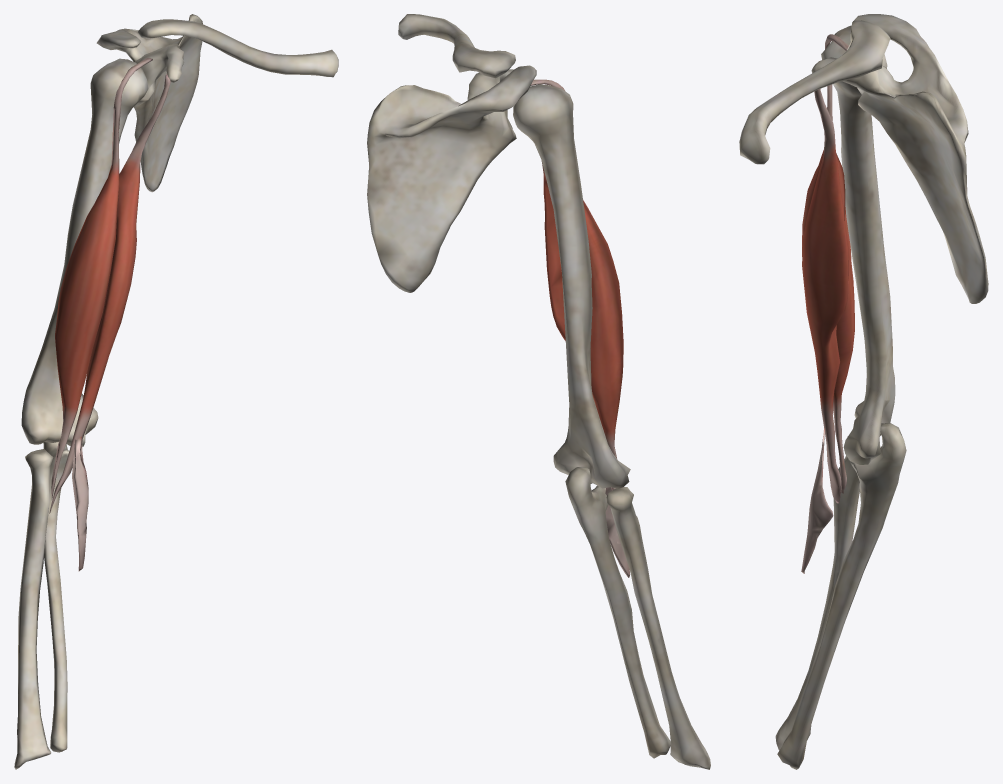
File: biceps.glb
3 renders of one model, left to right at view 1: azimuth 30°, elevation 25°; view 2: azimuth 150°, elevation 25°; view 3: azimuth 270°, elevation 25°, orthographic. The views are drawn at different scales.
Parts seen in each view (by area): view 1: Long_head_of_right_biceps_brachii, Right_humerus, Right_scapula, Right_radius, Short_head_of_right_biceps_brachii, Right_ulna, Right_clavicle, Right_bicipital_aponeurosis; view 2: Right_scapula, Right_humerus, Right_ulna, Long_head_of_right_biceps_brachii, Right_radius, Right_clavicle, Short_head_of_right_biceps_brachii, Right_bicipital_aponeurosis; view 3: Right_scapula, Right_humerus, Short_head_of_right_biceps_brachii, Right_ulna, Right_clavicle, Long_head_of_right_biceps_brachii, Right_radius, Right_bicipital_aponeurosis.
Part boxes in pixels (x1,y1,x2,y2): Long_head_of_right_biceps_brachii: (51,58,152,500); Right_humerus: (21,58,148,446); Right_scapula: (96,14,202,192); Right_radius: (14,449,53,769); Short_head_of_right_biceps_brachii: (49,73,170,513); Right_ulna: (43,442,69,752); Right_clavicle: (138,19,338,77); Right_bicipital_aponeurosis: (72,436,88,571); Right_scapula: (367,65,536,292); Right_humerus: (513,84,630,488); Right_ulna: (565,467,670,758); Long_head_of_right_biceps_brachii: (530,79,623,457); Right_radius: (606,487,710,769); Right_clavicle: (398,14,515,78); Short_head_of_right_biceps_brachii: (541,160,616,490); Right_bicipital_aponeurosis: (605,487,630,577); Right_scapula: (811,14,988,303); Right_humerus: (821,25,895,464); Short_head_of_right_biceps_brachii: (802,63,848,503); Right_ulna: (777,423,906,769); Right_clavicle: (739,20,890,164); Long_head_of_right_biceps_brachii: (802,34,854,493); Right_radius: (775,436,859,750); Right_bicipital_aponeurosis: (801,428,833,573).
Size of the model in its own units: 0.2643 by 0.5489 by 0.1511.
Materials: 8 (8 with a texture image).
